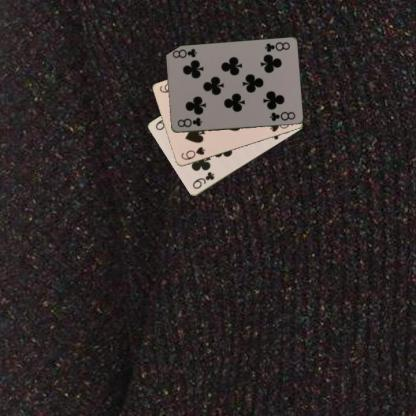6s: (179, 145, 206, 162)
8c: (174, 115, 204, 129), (262, 39, 292, 53)
9c: (190, 169, 216, 191)
